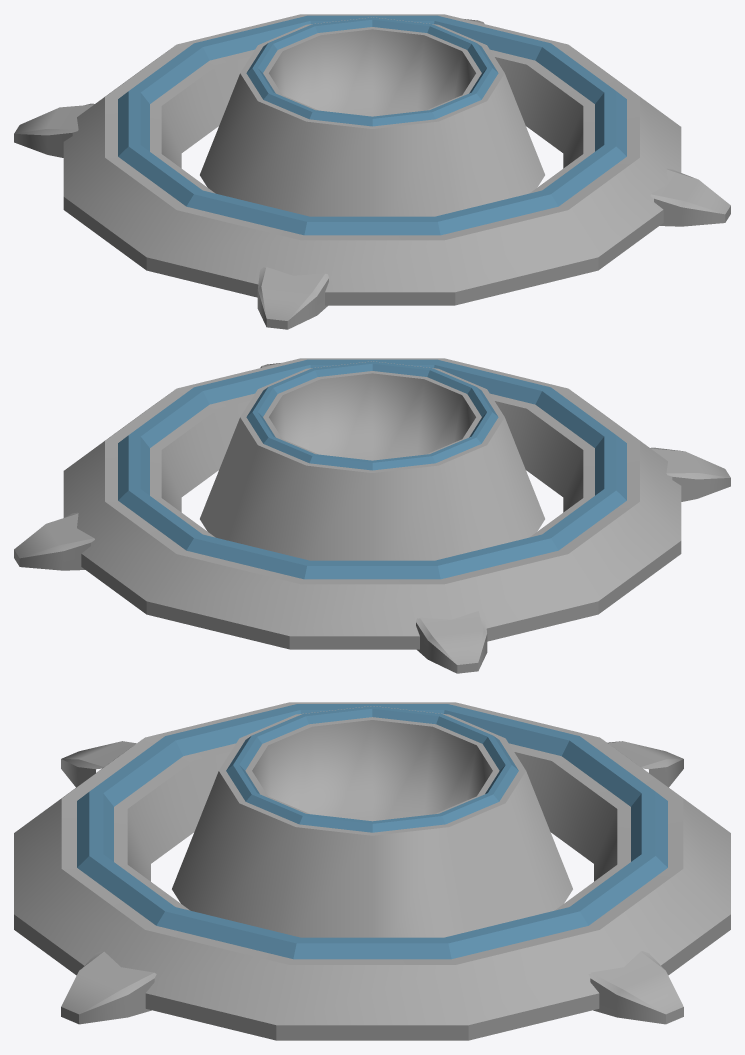
The model's file is Buddy_Spawn_Portal.fbx.
The picture shows the model from 3 angles, top to bottom: view 1: azimuth 30°, elevation 25°; view 2: azimuth 150°, elevation 25°; view 3: azimuth 270°, elevation 25°; orthographic projection. The views are drawn at different scales.
Visible parts, largest first — view 1: Buddy_Spawn_Portal; view 2: Buddy_Spawn_Portal; view 3: Buddy_Spawn_Portal.
Boxes of the visible parts, x1,y1,x2,y2 form: Buddy_Spawn_Portal: (14,14,730,329); Buddy_Spawn_Portal: (14,358,730,673); Buddy_Spawn_Portal: (14,702,730,1040).
Size of the model in its own units: 2.67 by 0.5248 by 2.67.
